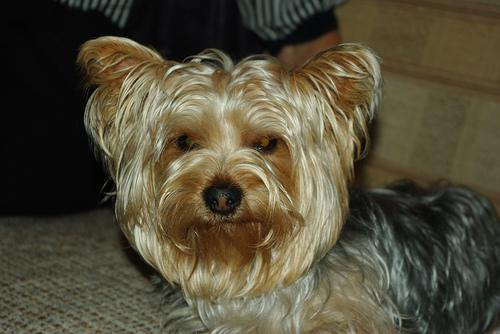dog: (93, 35, 377, 262)
